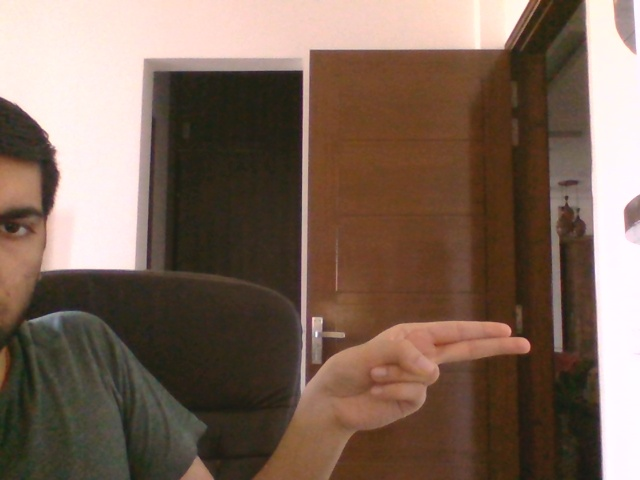LetterH: (310, 319, 531, 431)
